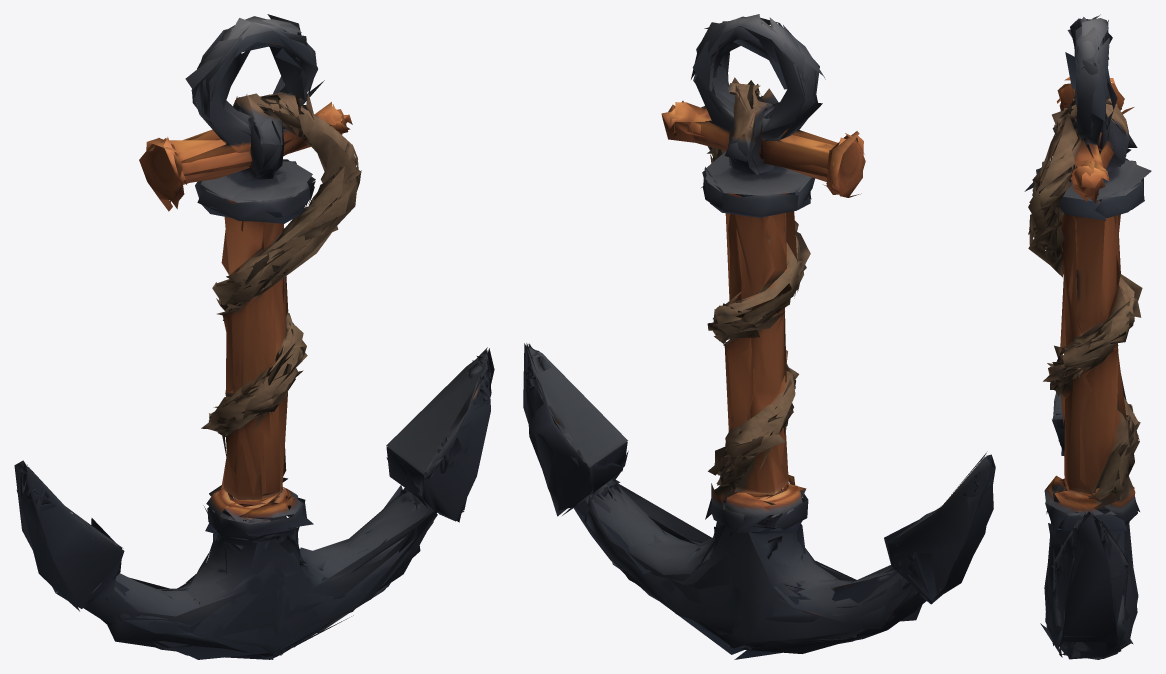
File: prop_anchor.glb
The picture shows the model from 3 angles, left to right: view 1: azimuth 30°, elevation 25°; view 2: azimuth 150°, elevation 25°; view 3: azimuth 270°, elevation 25°; orthographic projection.
Parts seen in each view (by area): view 1: Mesh_0; view 2: Mesh_0; view 3: Mesh_0.
Part boxes in pixels (<box>): Mesh_0: <box>14,14,494,659</box>; Mesh_0: <box>523,14,995,659</box>; Mesh_0: <box>1024,14,1151,659</box>.
Size of the model in its own units: 2.67 by 3.42 by 0.6357.
Materials: 1 (1 with a texture image).
